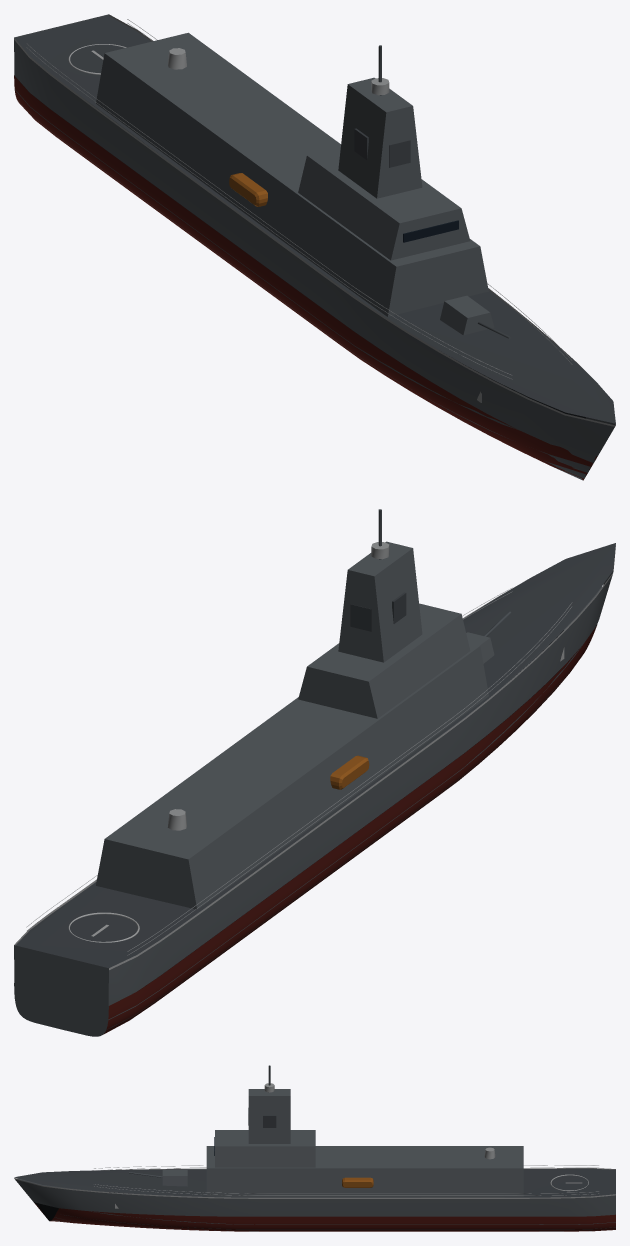
The model's file is military.glb.
3 views of the same model, one above another, from view 1: azimuth 30°, elevation 25°; view 2: azimuth 150°, elevation 25°; view 3: azimuth 270°, elevation 25° (orthographic). The views are drawn at different scales.
Size of the model in its own units: 16.86 by 40.85 by 143.
